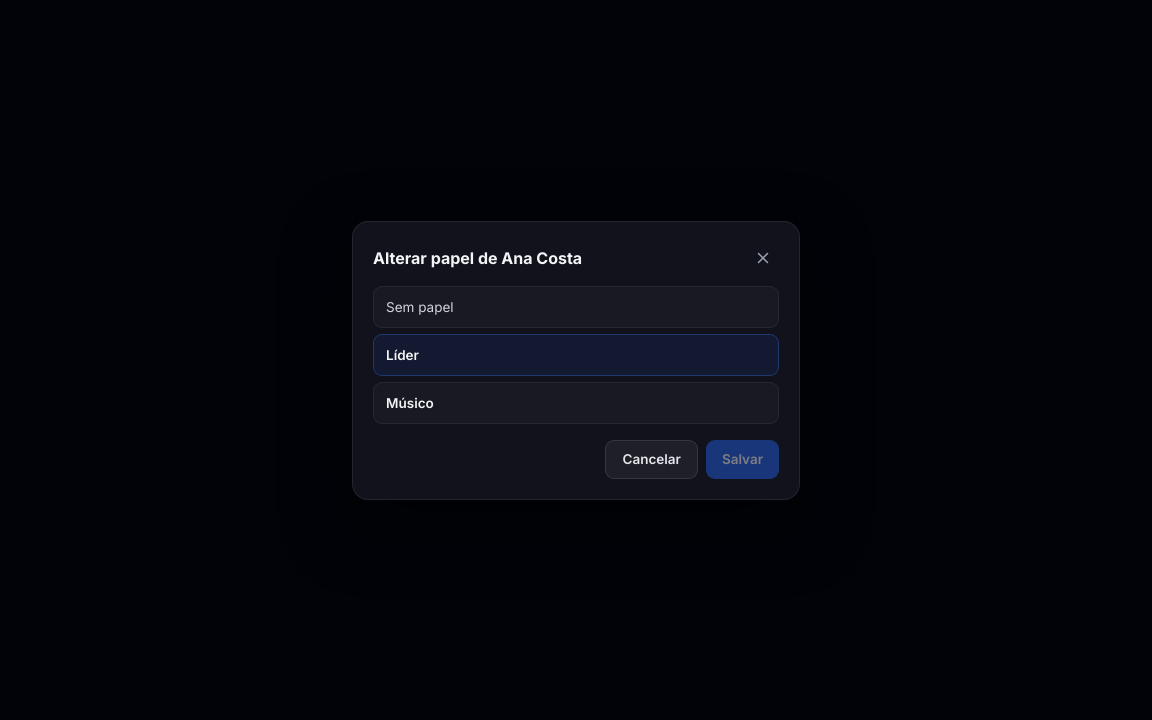
Test case: ChangeRoleModal › Salvar fica desabilitado quando pick === currentRoleId; habilita após mudar pra outro papel
Check: the button "Líder" is shown, box [373, 334, 779, 376]
Check: the button "Salvar" is disabled, box [706, 440, 779, 479]
// switch to role-2 → enabled
Click the button "Músico" at (410, 403), box [373, 382, 779, 424]
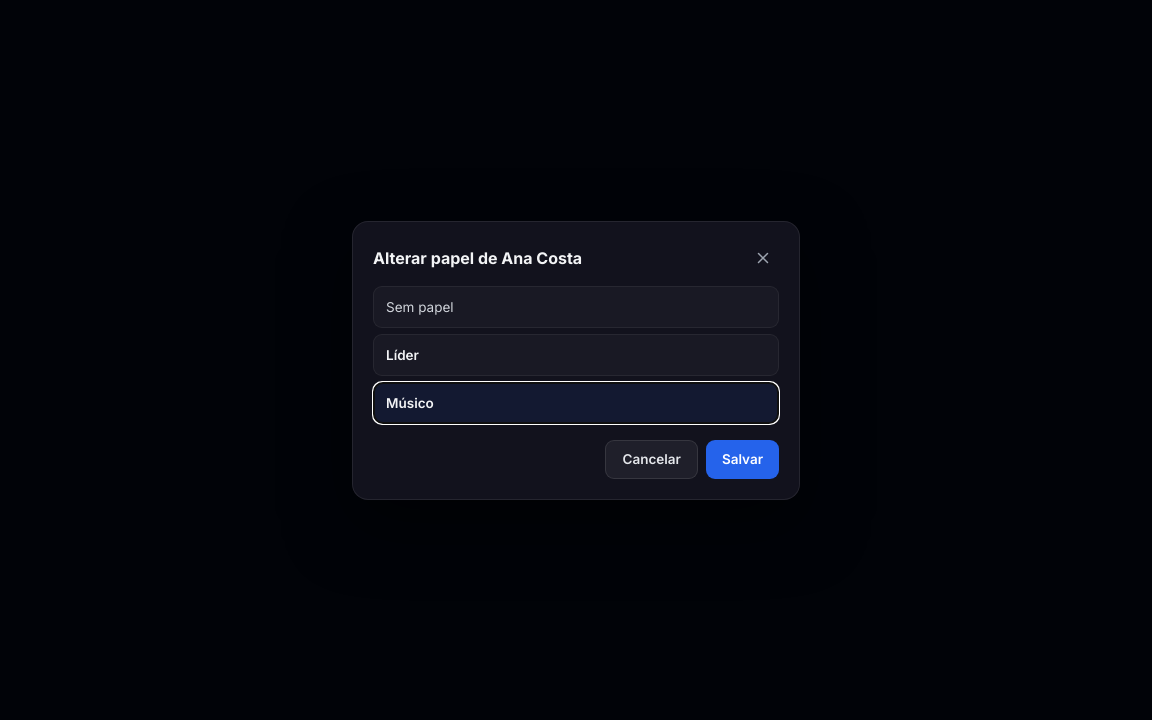
Check: the button "Salvar" is enabled, box [706, 440, 779, 479]
